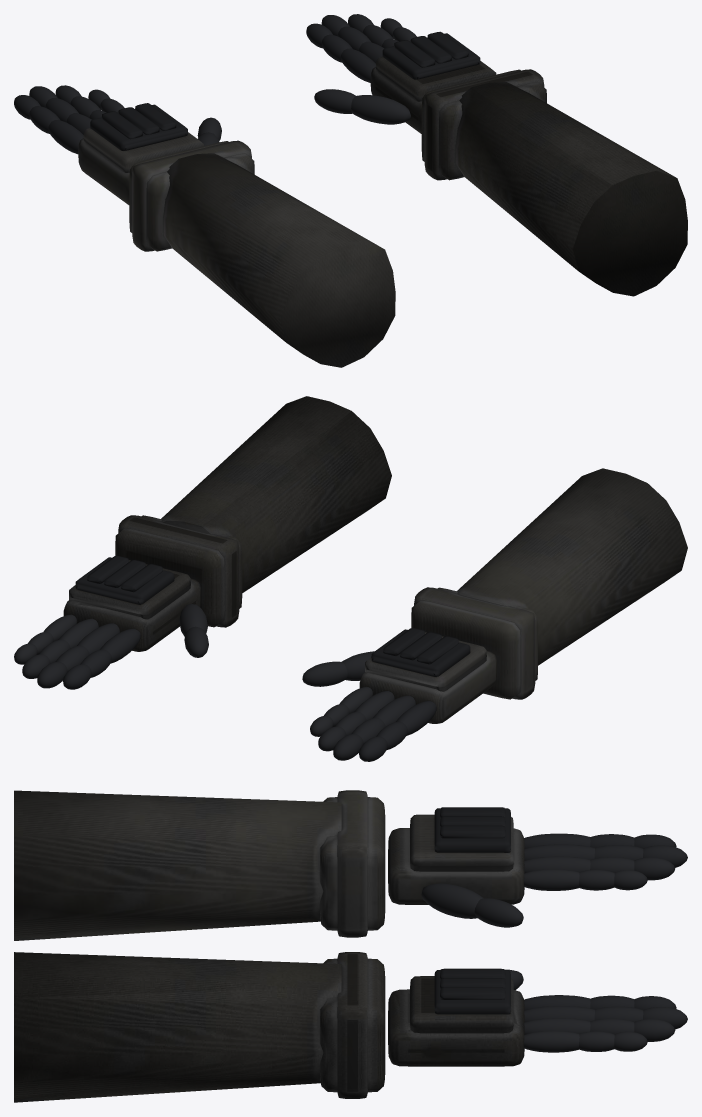
Rendered from hands.glb.
3 renders of one model, top to bottom at view 1: azimuth 30°, elevation 25°; view 2: azimuth 150°, elevation 25°; view 3: azimuth 270°, elevation 25°, orthographic. The views are drawn at different scales.
Visible parts, largest first — view 1: glove, glove.001, guard_plate.001, guard_plate, thumb1.001, thumb2.001, seg1, seg1.004, guard_rib.003, guard_rib, guard_rib.001, guard_rib.002 (+2 smaller); view 2: glove, glove.001, guard_plate, guard_plate.001, thumb2, seg1, seg1.004, seg1.001, seg1.005, thumb1.001, thumb2.001, seg3.001 (+11 smaller); view 3: glove.001, glove, thumb1, guard_plate.001, guard_plate, seg1.003, seg1.007, thumb2, seg1.001, guard_rib.002, seg1.002, seg1.005 (+22 smaller).
Boxes of the visible parts, x1=… form: glove: x1=78, y1=128, x2=395, y2=367; glove.001: x1=370, y1=56, x2=687, y2=296; guard_plate.001: x1=382, y1=33, x2=480, y2=79; guard_plate: x1=90, y1=104, x2=187, y2=150; thumb1.001: x1=351, y1=95, x2=410, y2=124; thumb2.001: x1=314, y1=89, x2=355, y2=113; seg1: x1=48, y1=120, x2=83, y2=154; seg1.004: x1=340, y1=48, x2=375, y2=82; guard_rib.003: x1=394, y1=40, x2=435, y2=67; guard_rib: x1=101, y1=111, x2=142, y2=139; guard_rib.001: x1=118, y1=107, x2=159, y2=134; guard_rib.002: x1=135, y1=103, x2=176, y2=130; glove: x1=359, y1=468, x2=687, y2=723; glove.001: x1=63, y1=396, x2=391, y2=651; guard_plate: x1=371, y1=629, x2=470, y2=676; guard_plate.001: x1=75, y1=557, x2=174, y2=604; thumb2: x1=302, y1=661, x2=347, y2=686; seg1: x1=396, y1=701, x2=436, y2=735; seg1.004: x1=100, y1=628, x2=140, y2=663; seg1.001: x1=373, y1=695, x2=415, y2=726; seg1.005: x1=77, y1=623, x2=119, y2=654; thumb1.001: x1=179, y1=604, x2=207, y2=636; thumb2.001: x1=184, y1=626, x2=208, y2=657; seg3.001: x1=333, y1=734, x2=363, y2=760; glove.001: x1=14, y1=952, x2=524, y2=1102; glove: x1=14, y1=790, x2=524, y2=940; thumb1: x1=421, y1=883, x2=483, y2=918; guard_plate.001: x1=434, y1=969, x2=510, y2=1014; guard_plate: x1=434, y1=808, x2=510, y2=852; seg1.003: x1=524, y1=869, x2=579, y2=890; seg1.007: x1=524, y1=1031, x2=579, y2=1052; thumb2: x1=474, y1=898, x2=523, y2=927; seg1.001: x1=524, y1=844, x2=594, y2=860; guard_rib.002: x1=440, y1=825, x2=505, y2=838; seg1.002: x1=524, y1=856, x2=590, y2=872; seg1.005: x1=524, y1=1006, x2=594, y2=1021.
Size of the model in its own units: 0.9776 by 0.276 by 1.23.
13 materials, 2 textured.
